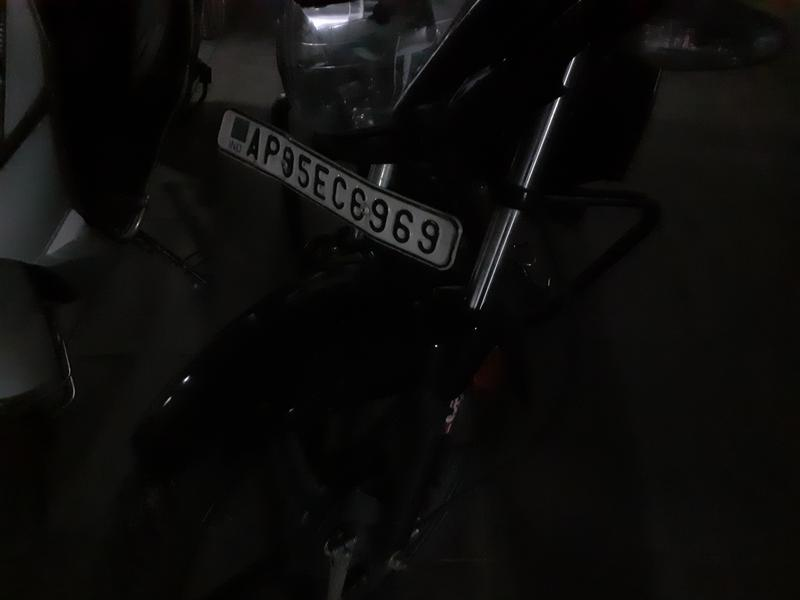numberplate: (209, 106, 473, 275)
